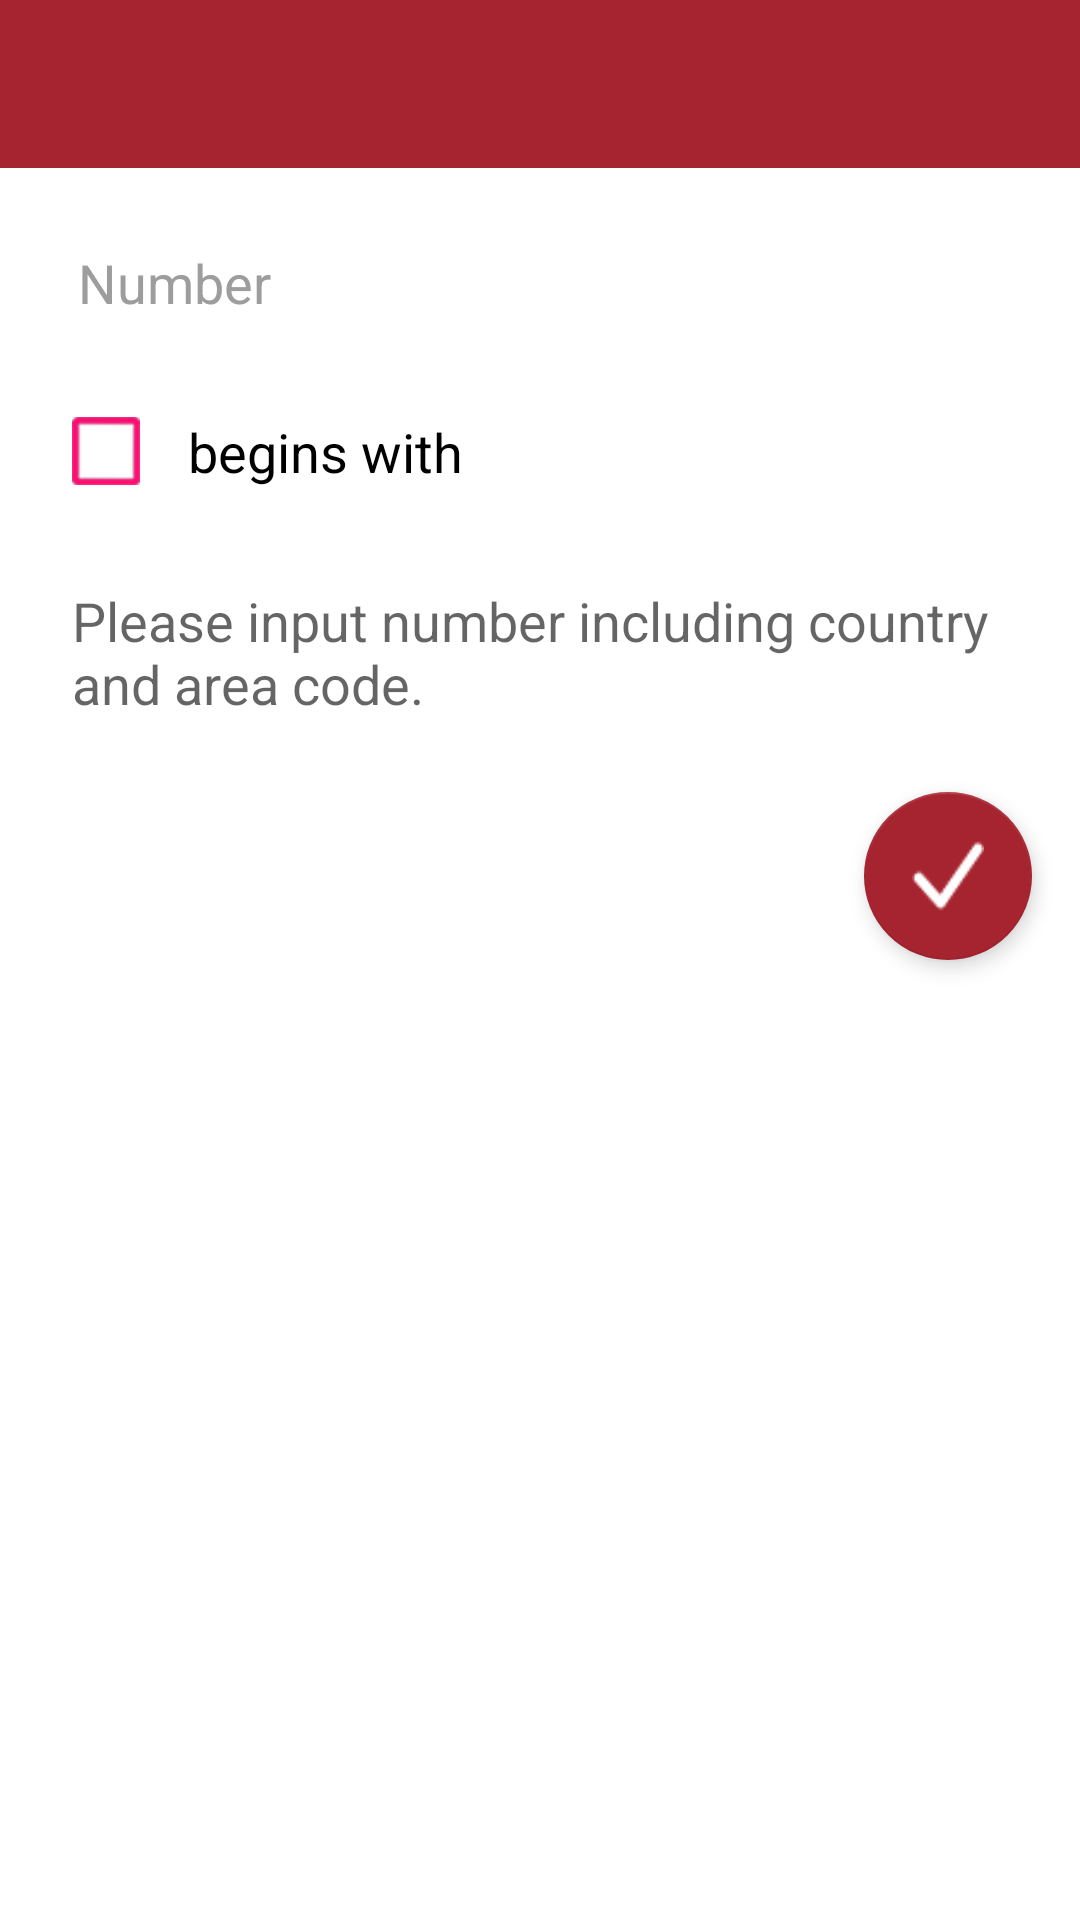

Where icons sit on this 1080px×1920px app screen, as (x1, y1, x2, y2):
done: (864, 792, 1032, 960)
